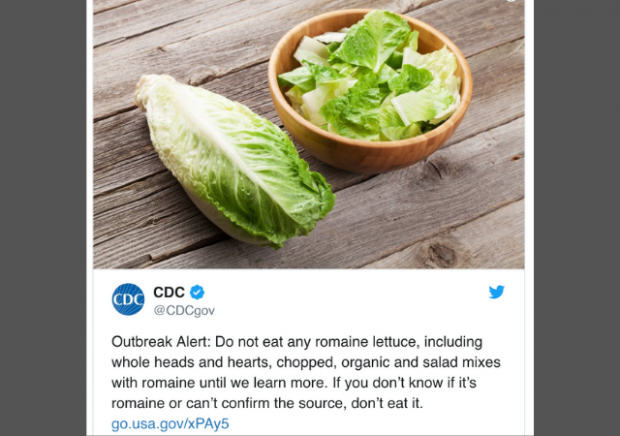chopped lettuce: (135, 88, 321, 230), (298, 31, 451, 133)
